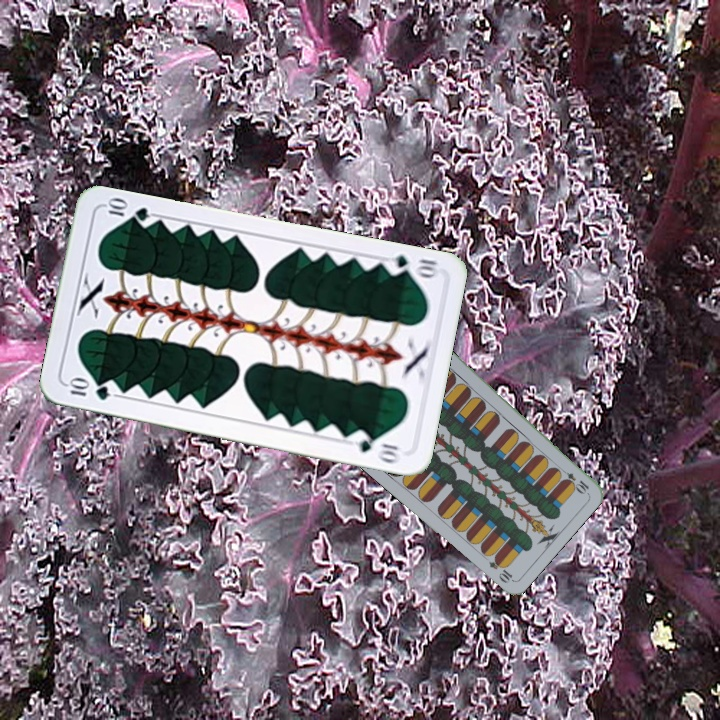E10: (555, 464, 592, 496)
G10: (381, 251, 441, 281), (64, 376, 112, 403)
